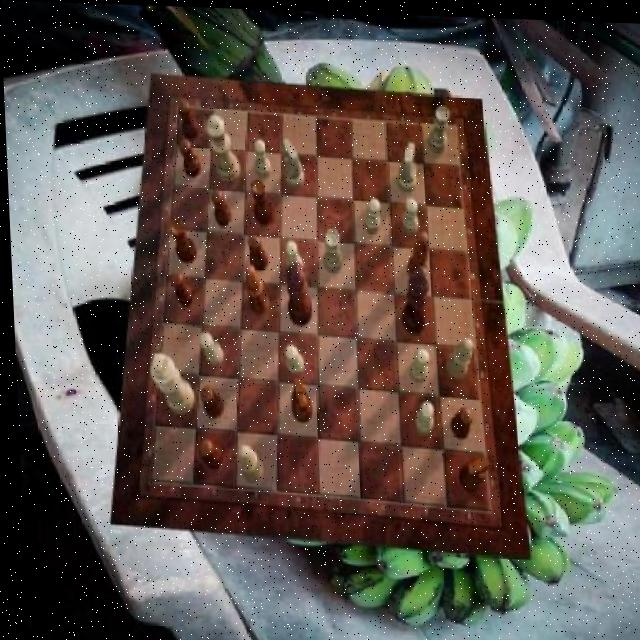bishop: (403, 229, 428, 280), (241, 264, 266, 313)
black-bishop: (397, 262, 428, 332)
black-king: (454, 452, 486, 490), (287, 376, 310, 422)
black-knight: (177, 99, 199, 140), (168, 269, 192, 305), (178, 137, 200, 175), (208, 188, 229, 227), (445, 403, 469, 436), (196, 385, 220, 418), (195, 437, 219, 469), (246, 235, 266, 270)
black-pawn: (283, 260, 309, 325)
black-queen: (166, 219, 195, 263), (248, 177, 272, 223)
black-rook: (440, 334, 469, 377), (234, 443, 258, 482)
white-bishop: (146, 353, 191, 414)
white-king: (393, 139, 415, 190), (282, 138, 303, 187)
white-knight: (196, 330, 220, 365), (406, 344, 427, 379), (283, 239, 302, 277), (409, 398, 430, 432), (251, 138, 269, 177), (360, 195, 379, 231), (399, 196, 417, 232), (282, 343, 301, 375)
white-pawn: (203, 114, 239, 182)
white-queen: (425, 103, 449, 151), (320, 228, 342, 272)
